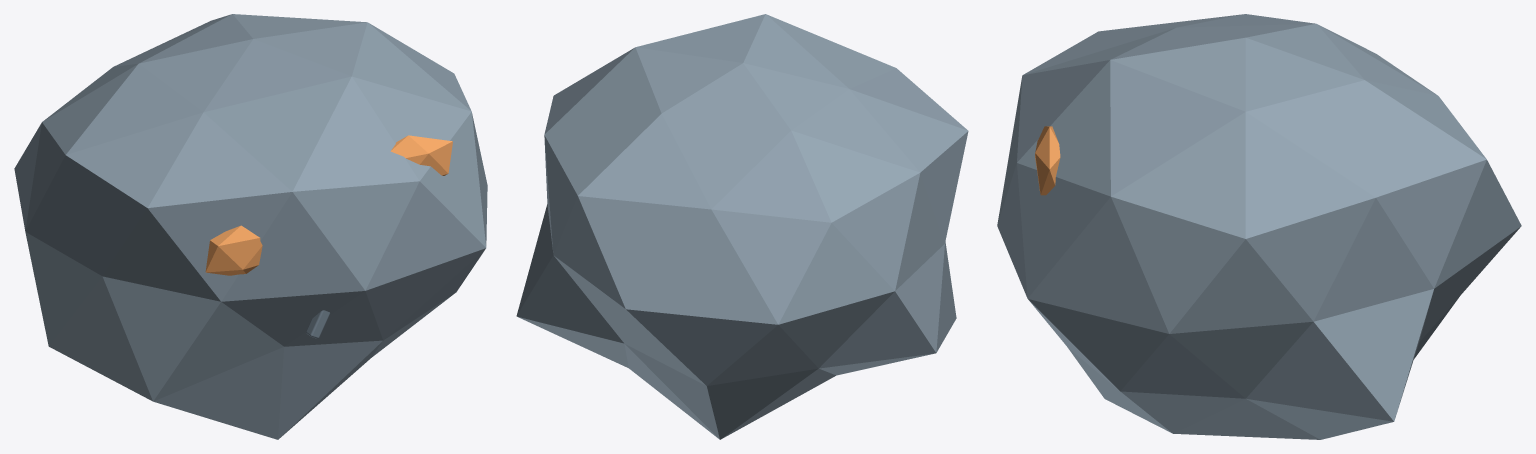
File: Rock_Cracked.fbx
The picture shows the model from 3 angles, left to right: view 1: azimuth 30°, elevation 25°; view 2: azimuth 150°, elevation 25°; view 3: azimuth 270°, elevation 25°; orthographic projection. The views are drawn at different scales.
Visible parts, largest first — view 1: Cracked boulder, Exposed copper vein 0, Exposed copper vein 1; view 2: Cracked boulder; view 3: Cracked boulder, Exposed copper vein 1.
Part boxes in pixels (box(x1,y1,x2,y2)): Cracked boulder: box(14, 14, 487, 439); Exposed copper vein 0: box(205, 225, 262, 275); Exposed copper vein 1: box(390, 135, 452, 175); Cracked boulder: box(516, 14, 968, 439); Cracked boulder: box(997, 14, 1521, 439); Exposed copper vein 1: box(1035, 126, 1060, 195).
Bounding box in the file's own units: 487 × 396 × 492.
